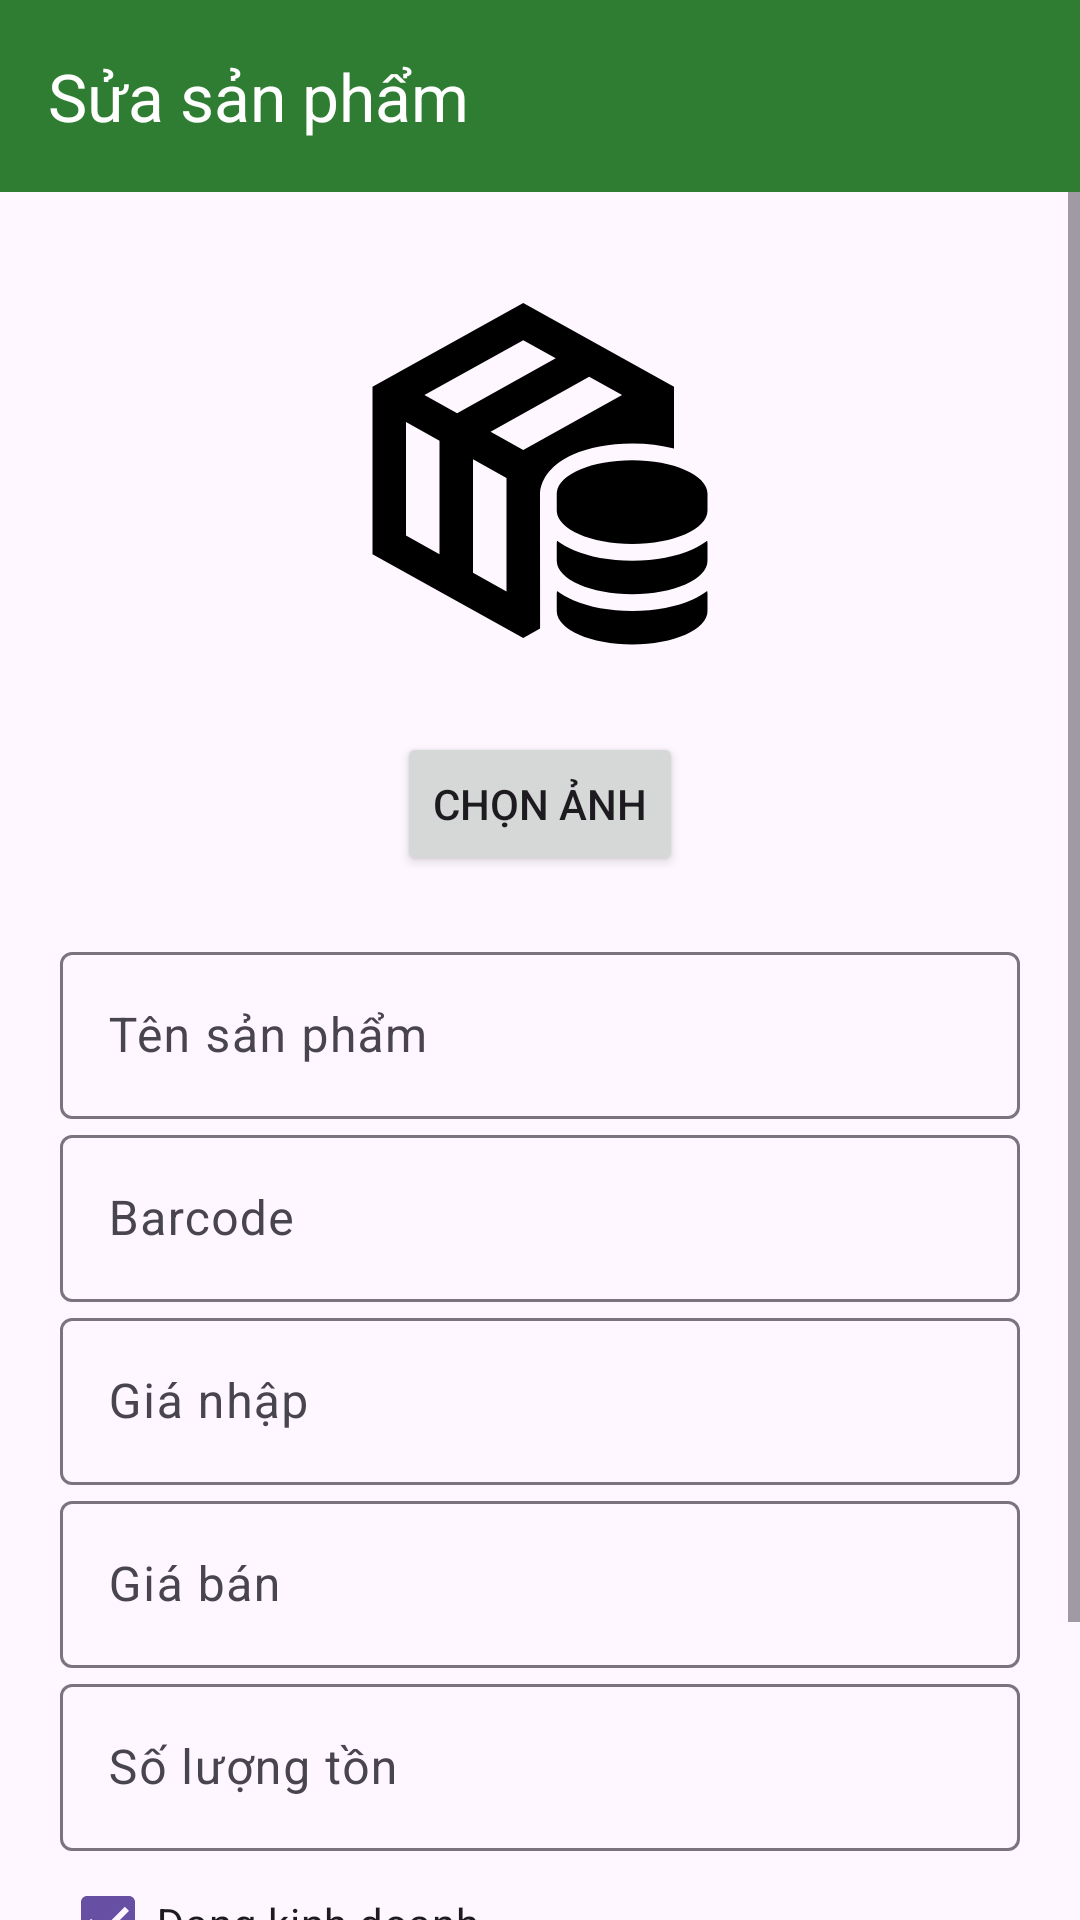

Screen size 1080px×1920px. Icon name, then its center in pixels as (x=x, y=y):
product: (x=540, y=474)
